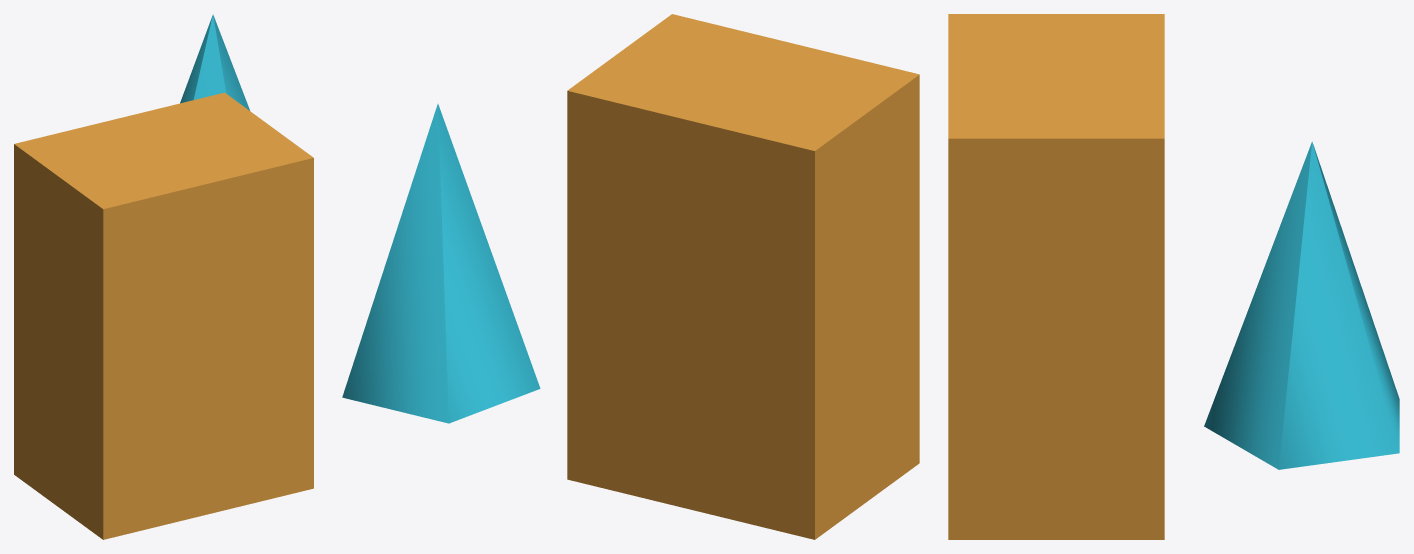
Rendered from frame-06.glb.
3 renders of one model, left to right at view 1: azimuth 30°, elevation 25°; view 2: azimuth 150°, elevation 25°; view 3: azimuth 270°, elevation 25°, orthographic. The views are drawn at different scales.
Bounding box in the file's own units: 0.4746 × 0.48 × 0.459.
